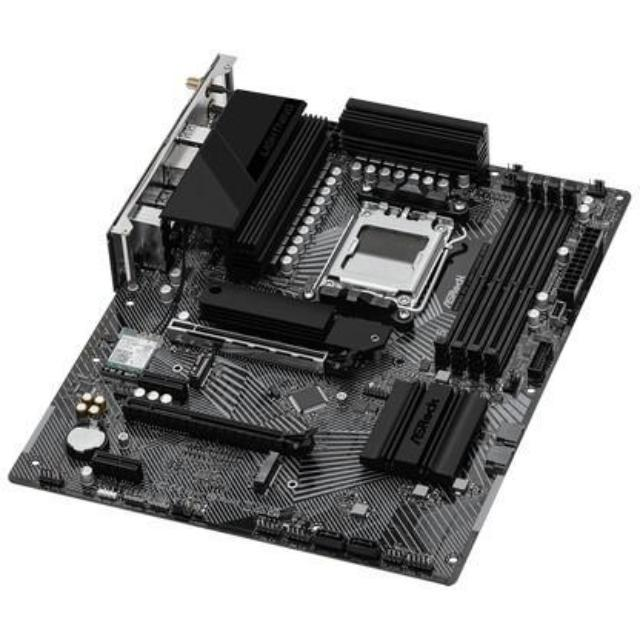Mainboard: (10, 49, 627, 592)
